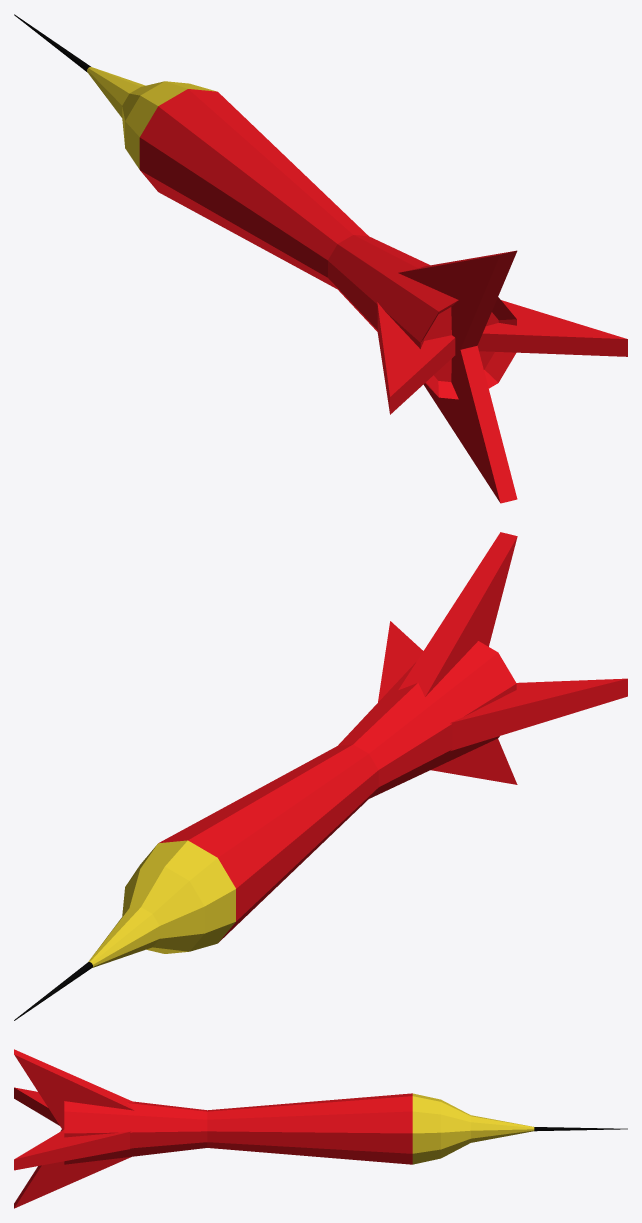
File: dardo.glb
3 renders of one model, top to bottom at view 1: azimuth 30°, elevation 25°; view 2: azimuth 150°, elevation 25°; view 3: azimuth 270°, elevation 25°, orthographic. The views are drawn at different scales.
Parts seen in each view (by area): view 1: Cylinder, Cube.001, Cube; view 2: Cylinder, Cube.001, Cube; view 3: Cylinder, Cube.001, Cube.
Part boxes in pixels (x1,y1,x2,y2): Cylinder: [14, 14, 516, 399]; Cube.001: [398, 250, 517, 503]; Cube: [377, 300, 627, 414]; Cylinder: [14, 641, 516, 1020]; Cube.001: [398, 532, 517, 784]; Cube: [378, 621, 627, 750]; Cylinder: [64, 1093, 627, 1164]; Cube.001: [14, 1049, 134, 1208]; Cube: [14, 1087, 131, 1170].
Size of the model in its own units: 0.634 by 0.634 by 2.28.
